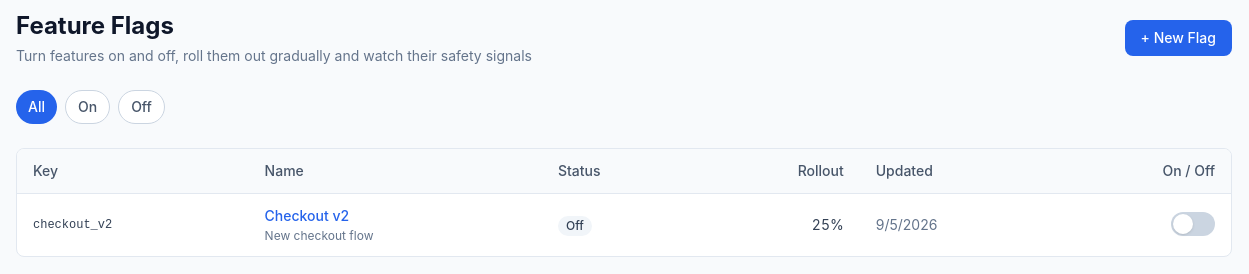
Test: FeatureFlagsPage › ignores a stale list response that lands after a newer one
Expected: the element with test id "flags-table" is shown, [16,148,1232,257]
What coordinates should you click on to do the following:
click the button with test id "flag-filter-active"
I would click on:
 (88, 107)
Its box is [65,90,110,124].
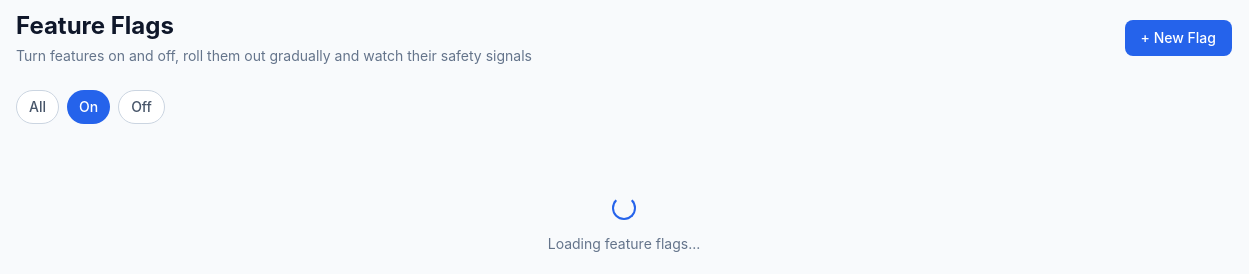
What coordinates should you click on to do the following:
click the button with test id "flag-filter-inactive"
I would click on:
 (142, 107)
Its box is [118,90,165,124].
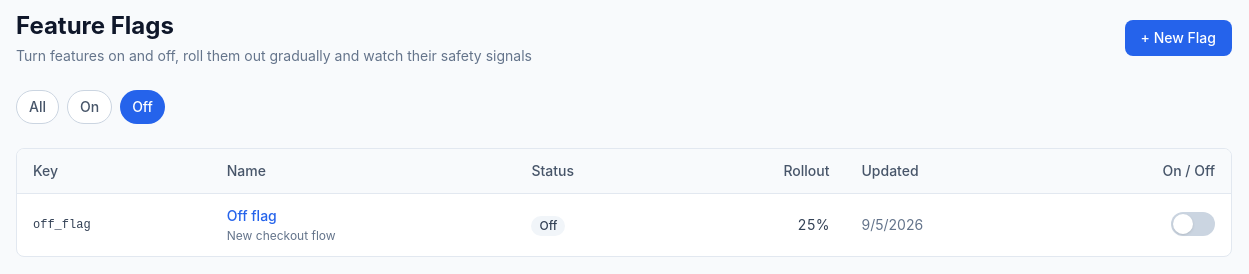
Expected: the element with test id "flags-table" does not show "on_flag", [16,148,1232,257]
Result: the element with test id "flags-table" shows "off_flag" at [33,218,91,232]
Result: the number of rows with test id "flag-row" is 1 at [17,194,1231,256]
